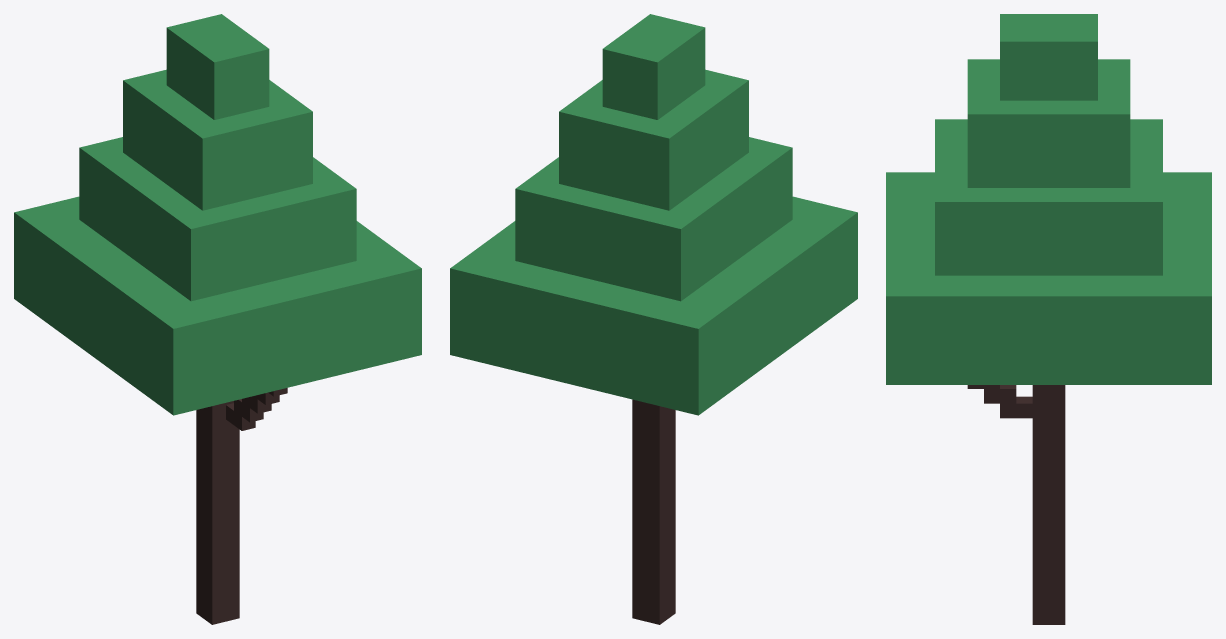
File: Background_A_tree_04.FBX
The picture shows the model from 3 angles, left to right: view 1: azimuth 30°, elevation 25°; view 2: azimuth 150°, elevation 25°; view 3: azimuth 270°, elevation 25°; orthographic projection. The views are drawn at different scales.
Visible parts, largest first — view 1: Load_A-20; view 2: Load_A-20; view 3: Load_A-20.
Boxes of the visible parts, x1,y1,x2,y2 form: Load_A-20: [14, 14, 421, 624]; Load_A-20: [450, 14, 857, 624]; Load_A-20: [886, 14, 1211, 624].
Bounding box in the file's own units: 1.8 × 4 × 2.
1 material, 1 textured.
